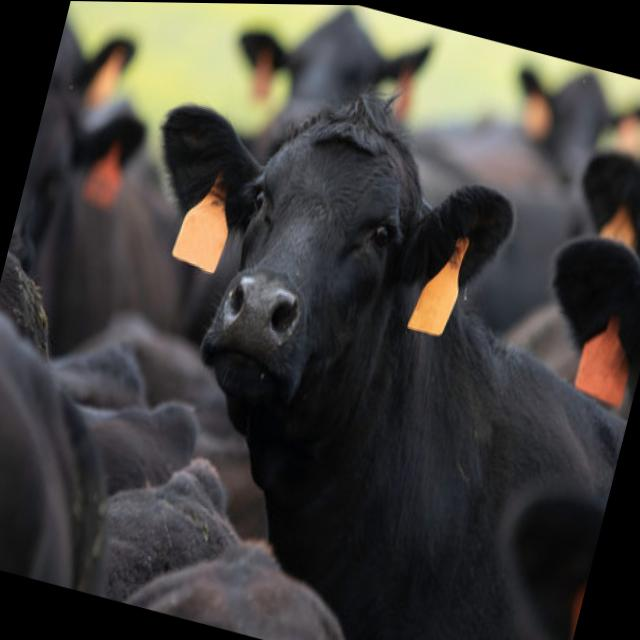cowFace: (104, 62, 524, 468)
